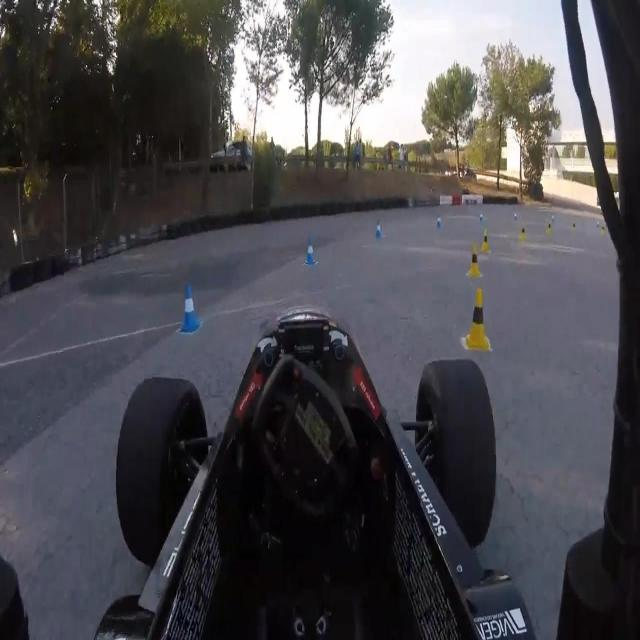blue_cone: (177, 284, 201, 336), (305, 238, 317, 267), (374, 220, 382, 240), (436, 214, 441, 231), (479, 213, 484, 226)
yellow_cone: (464, 287, 490, 351), (468, 246, 482, 278), (482, 230, 490, 256), (519, 224, 526, 244), (546, 220, 552, 236)
